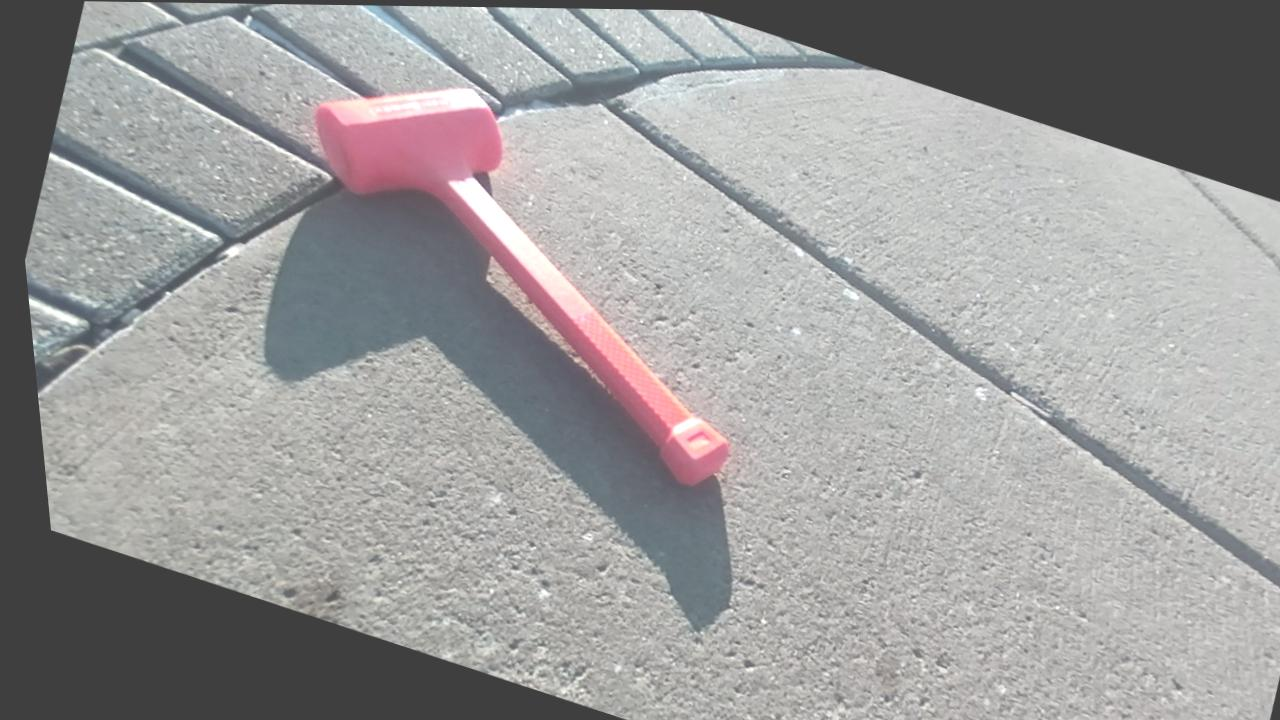mallet: (315, 89, 728, 484)
